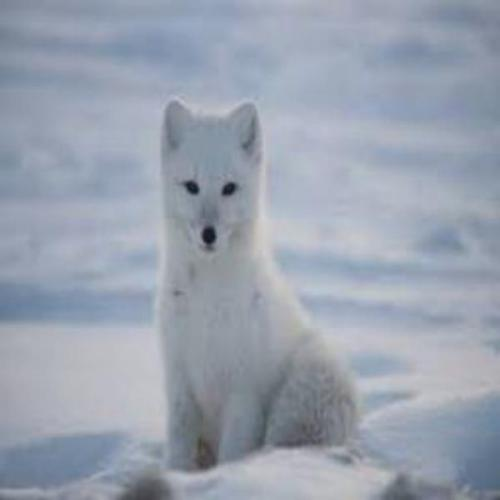arctic_fox-endangered: (154, 101, 356, 469)
